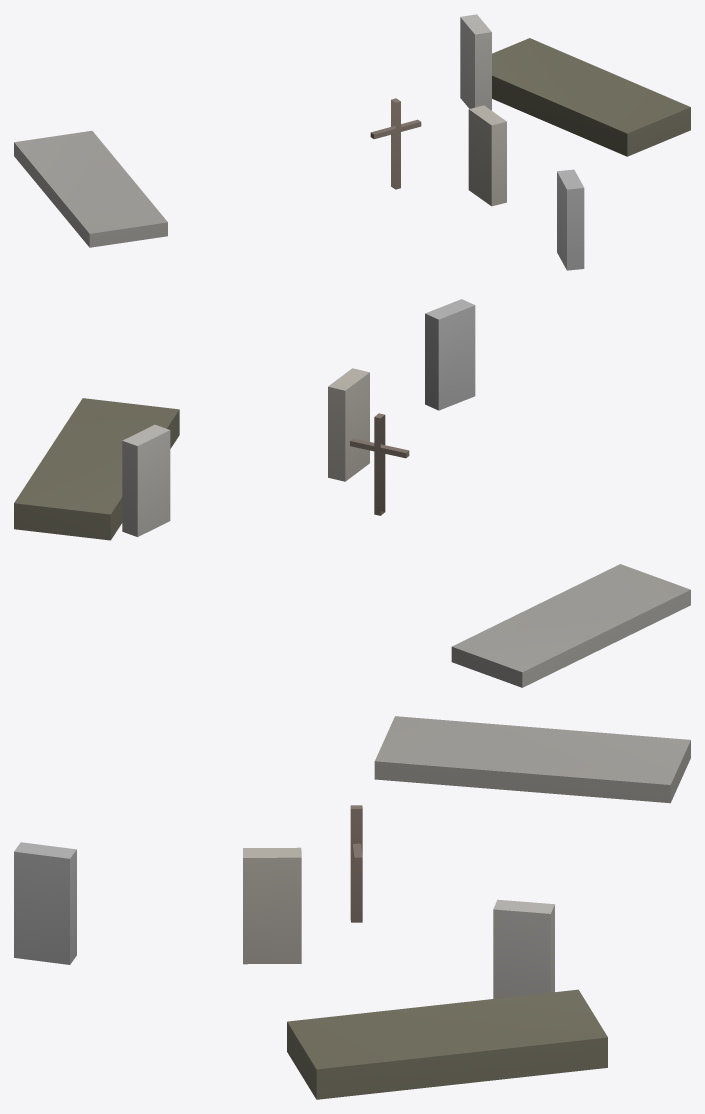
File: graves_2.glb
3 renders of one model, top to bottom at view 1: azimuth 30°, elevation 25°; view 2: azimuth 150°, elevation 25°; view 3: azimuth 270°, elevation 25°, orthographic. The views are drawn at different scales.
Parts seen in each view (by area): view 1: graves_2; view 2: graves_2; view 3: graves_2.
Boxes of the visible parts, x1=… form: graves_2: x1=14, y1=14, x2=690, y2=270; graves_2: x1=14, y1=299, x2=690, y2=687; graves_2: x1=14, y1=716, x2=690, y2=1099.
Size of the model in its own units: 5.17 by 0.75 by 4.05.
